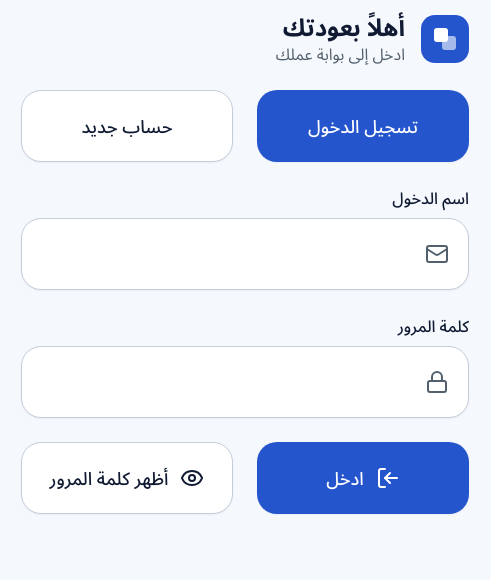
Test case: AuthForm › sends nothing while a field is empty
The width and height of the screenshot is (491, 580).
In the field labelled "اسم الدخول": (245, 254) [21,218,469,290], type "ali@example.sa"
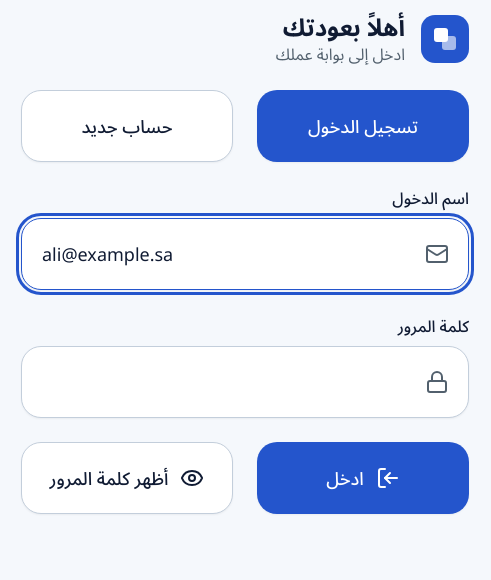
Click the button "ادخل": (363, 478) [257,442,469,514]
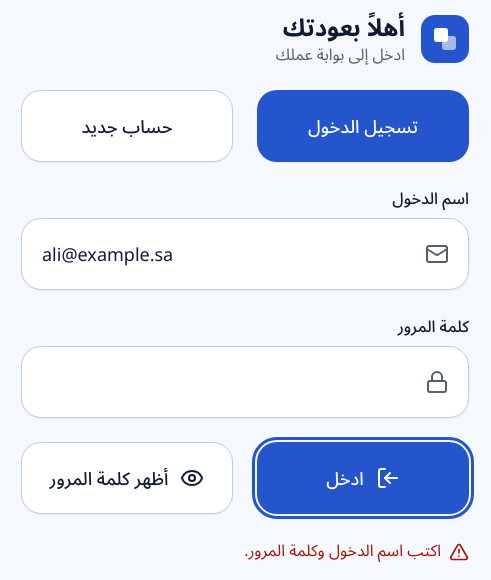
Check: the message reads "اكتب اسم الدخول وكلمة المرور.", box [244,539,441,561]
